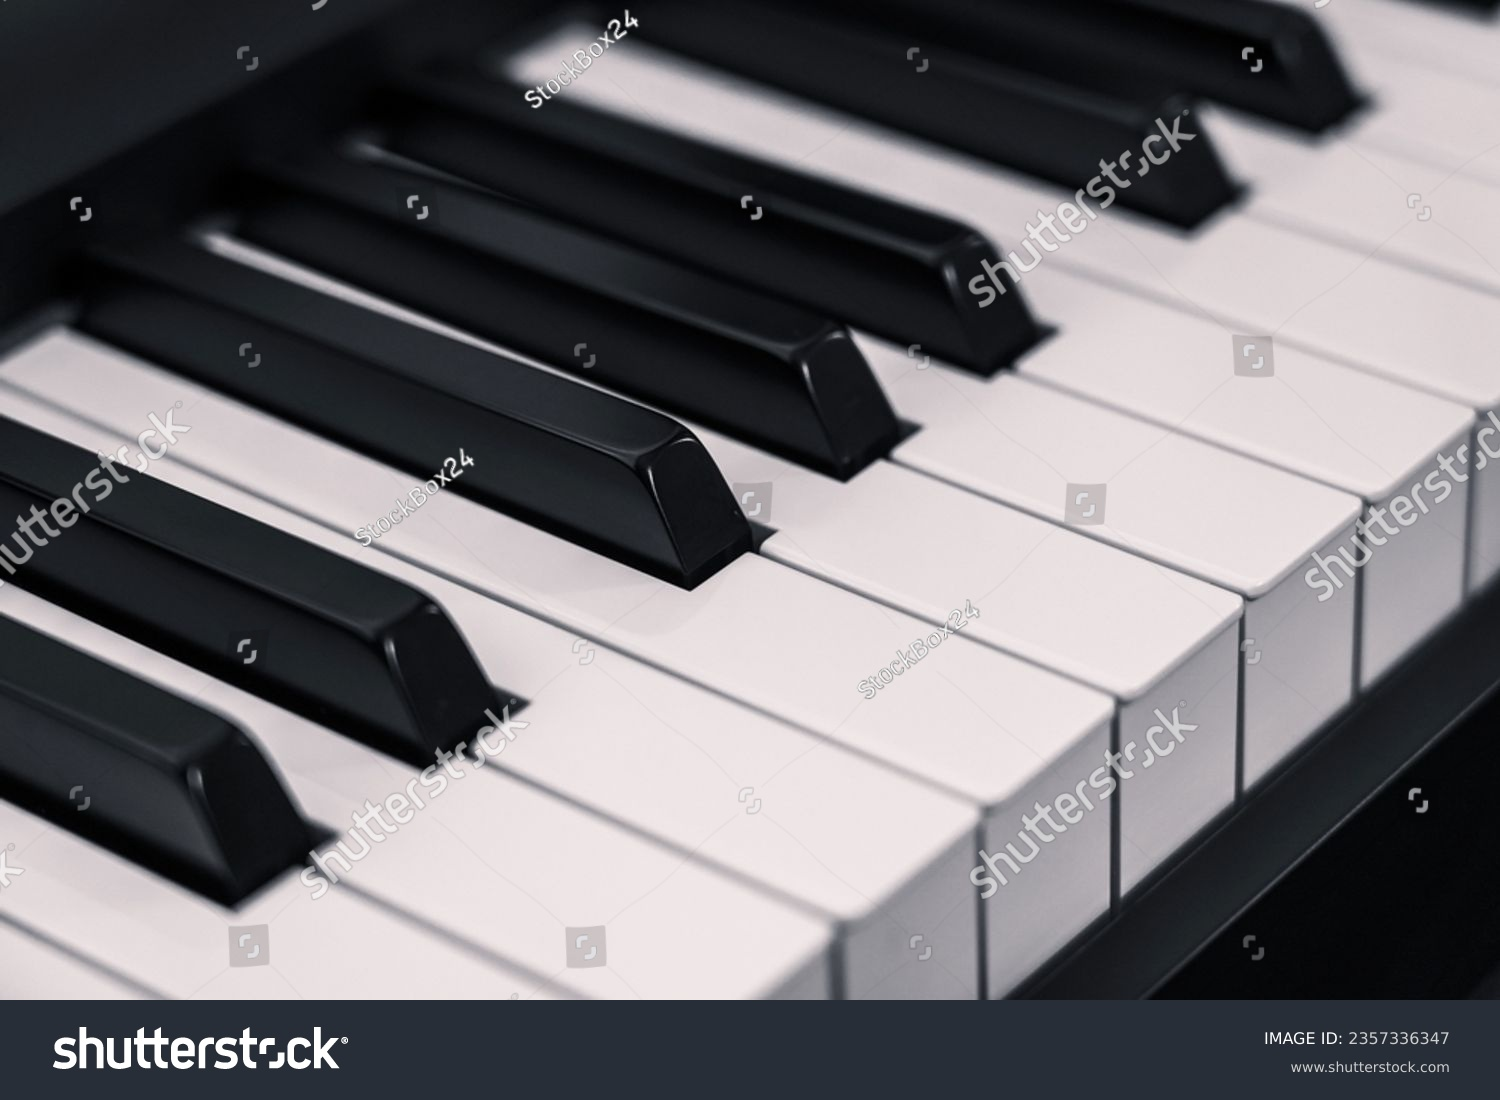Piano: (1, 1, 1488, 1015)
